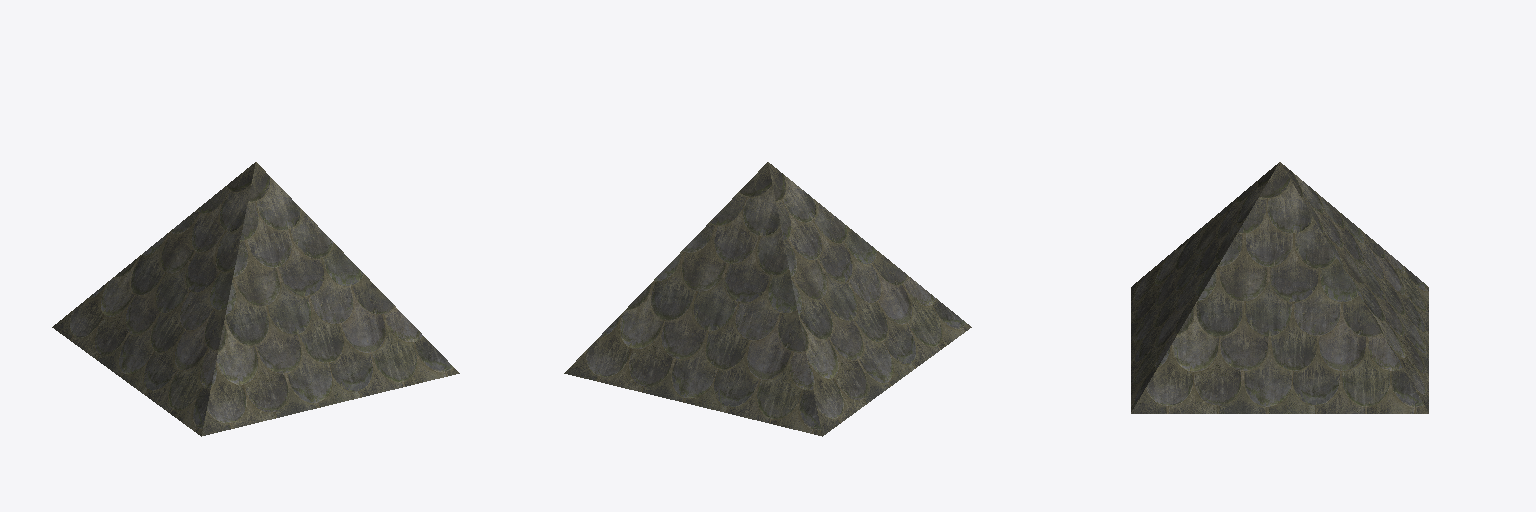
The picture shows the model from 3 angles: view 1: azimuth 30°, elevation 25°; view 2: azimuth 150°, elevation 25°; view 3: azimuth 270°, elevation 25°; orthographic projection.
Visible parts, largest first — view 1: tip_Cube; view 2: tip_Cube; view 3: tip_Cube.
Part boxes in pixels (x1,y1,x2,y2): tip_Cube: (52,162,459,436); tip_Cube: (564,162,971,436); tip_Cube: (1131,162,1428,413).
Size of the model in its own units: 1 by 0.6974 by 1.
1 materials, 1 textured.